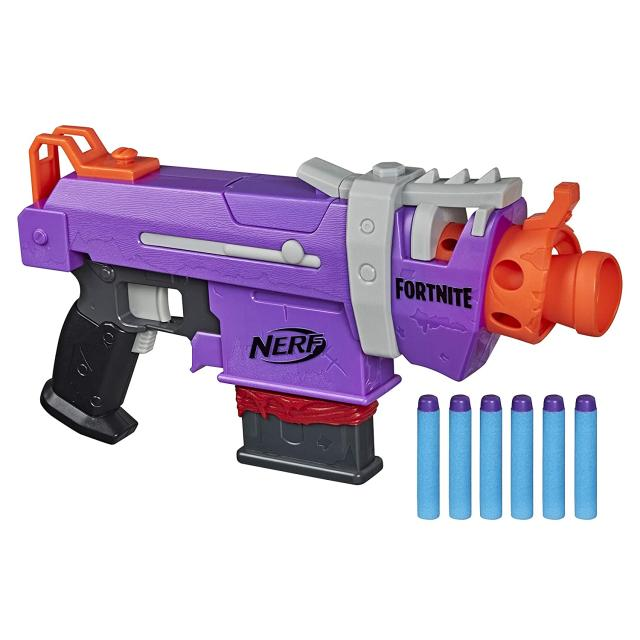Weapon: (12, 110, 626, 488)
